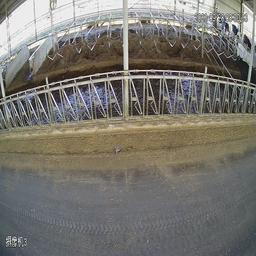cow: (234, 48, 254, 92), (232, 36, 251, 61), (218, 15, 229, 38)
